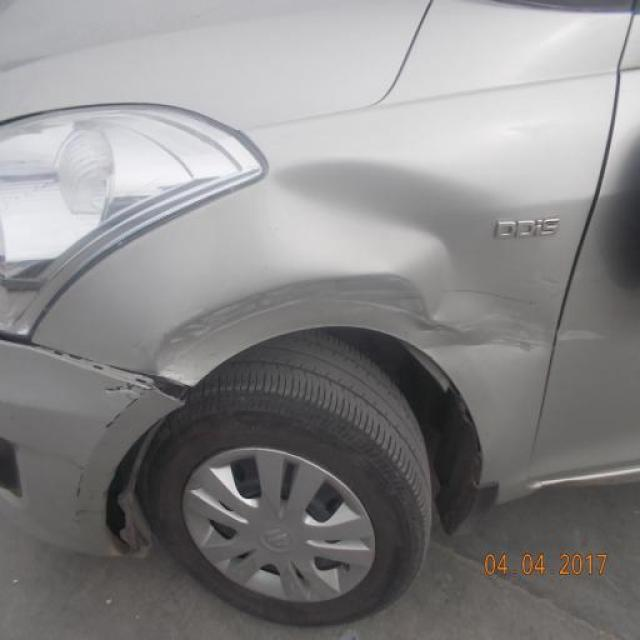dent: (270, 160, 553, 359)
misalignment: (0, 330, 201, 410)
scratch: (154, 266, 435, 388), (100, 380, 152, 433), (64, 455, 93, 532)
